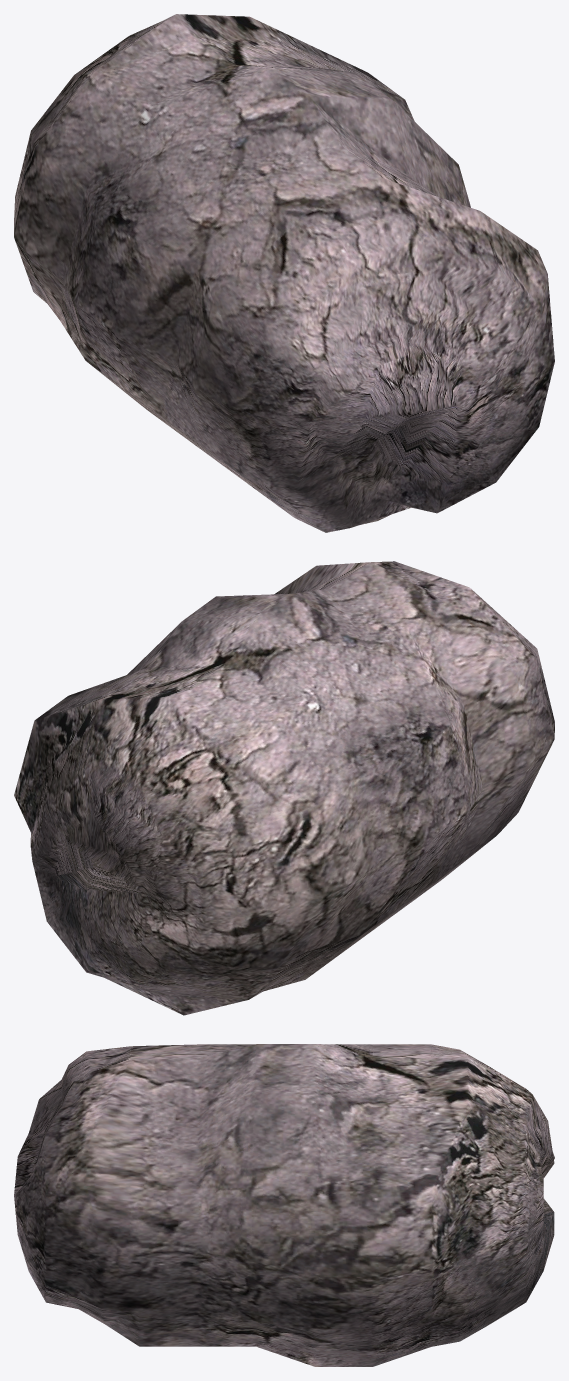
File: Asteroid01.DAE
3 renders of one model, top to bottom at view 1: azimuth 30°, elevation 25°; view 2: azimuth 150°, elevation 25°; view 3: azimuth 270°, elevation 25°, orthographic. The views are drawn at different scales.
Visible parts, largest first — view 1: gris_grande; view 2: gris_grande; view 3: gris_grande.
Boxes of the visible parts, x1,y1,x2,y2 form: gris_grande: (14, 14, 554, 532); gris_grande: (14, 561, 554, 1015); gris_grande: (14, 1044, 554, 1366).
Bounding box in the file's own units: 4.06 × 5.98 × 3.77.
1 material, 1 textured.
